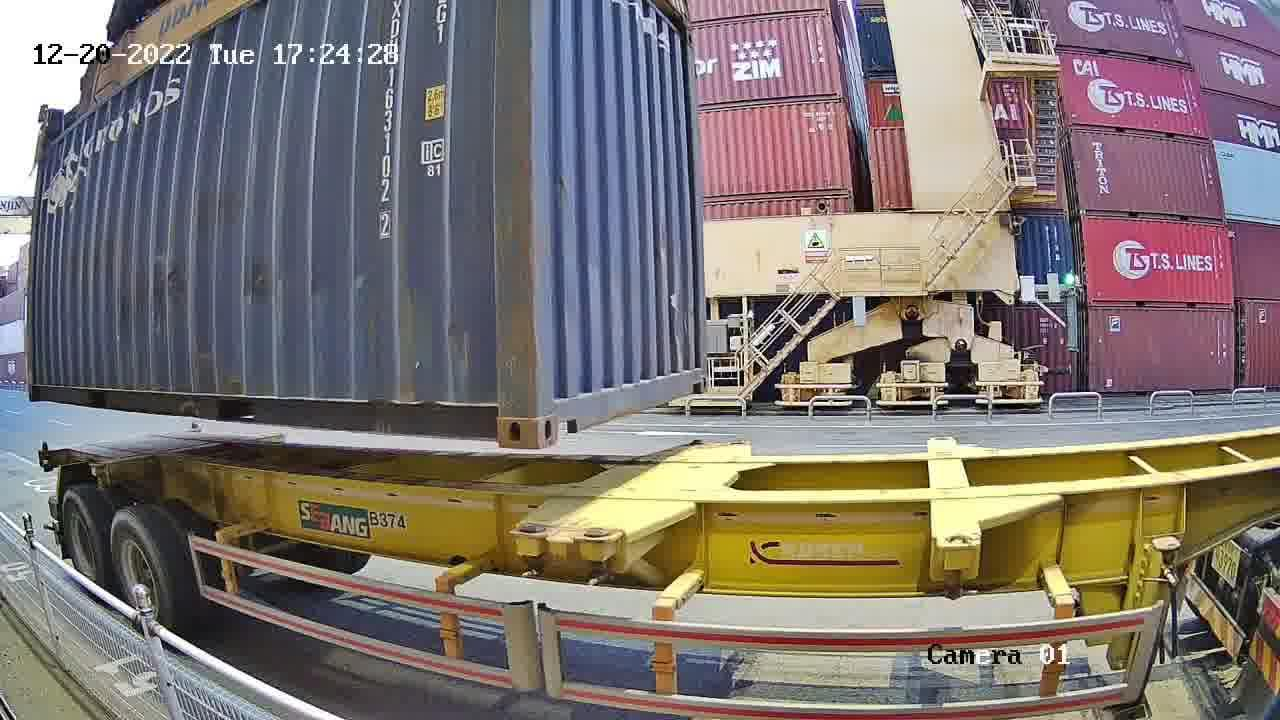Chassis: (510, 438, 719, 536), (580, 440, 753, 540)
Cone: (508, 521, 553, 578), (578, 530, 622, 586)
Hole_L: (533, 373, 581, 449)
Hole_R: (466, 377, 535, 450), (684, 353, 708, 397)
Tire: (110, 512, 176, 636), (62, 490, 107, 597)
